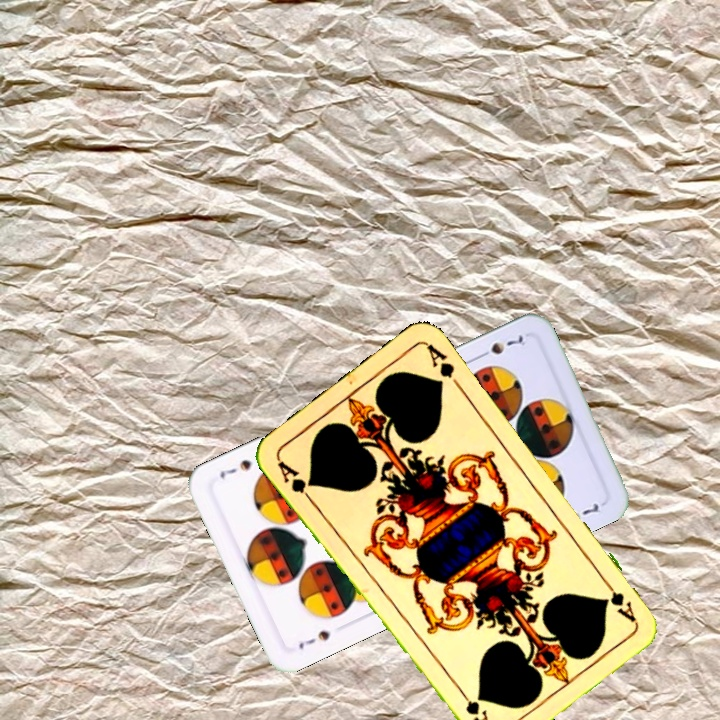GA: (273, 456, 317, 506), (597, 573, 639, 625)
S7: (473, 331, 529, 362), (294, 626, 332, 652)
